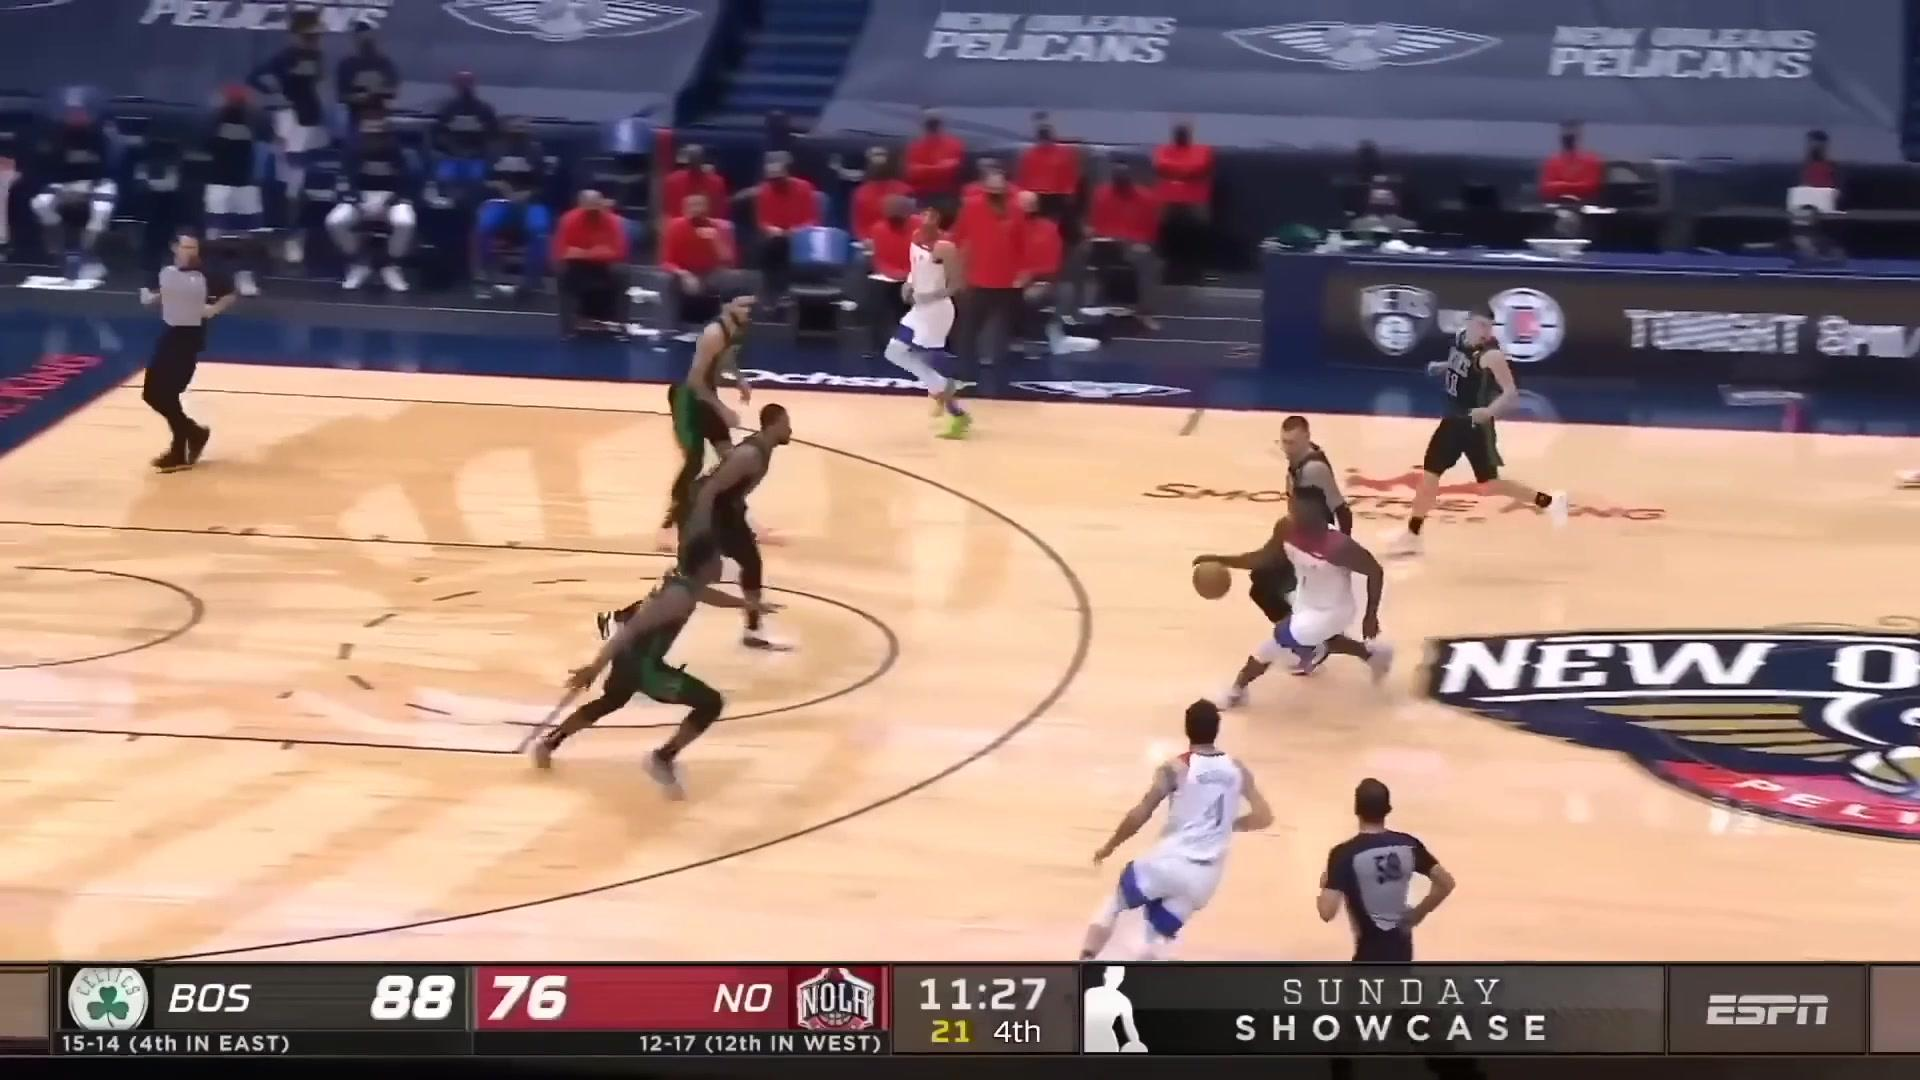no_foul: (1140, 394, 1451, 720)
